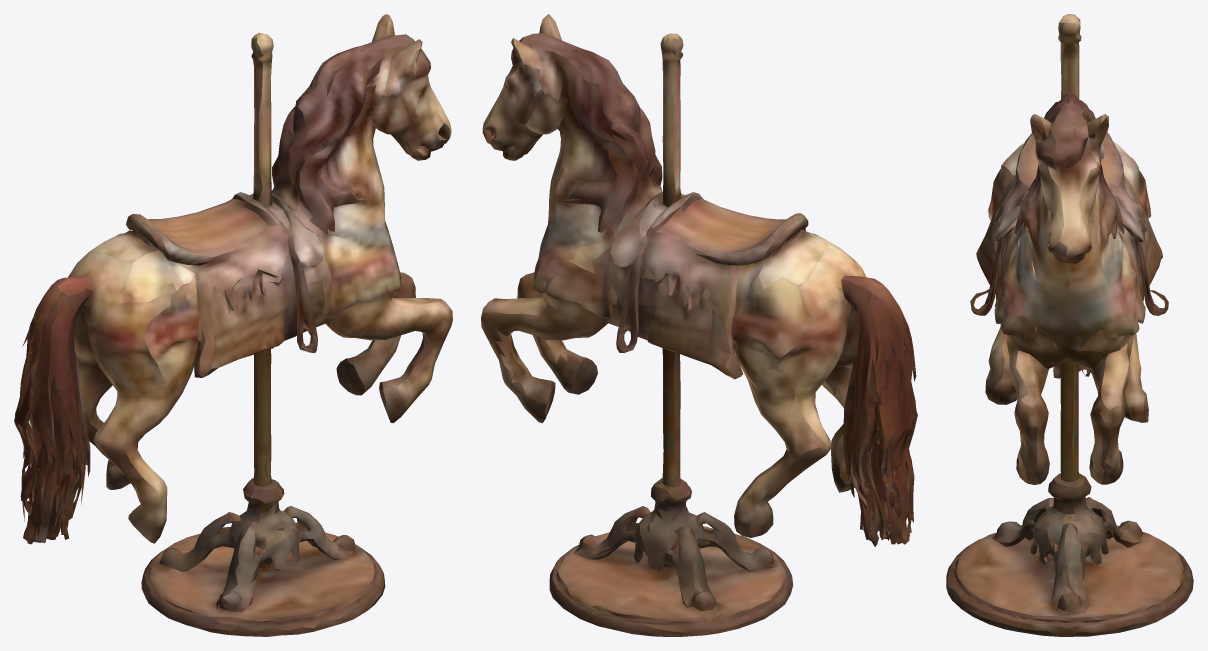
Rendered from horse.glb.
3 views of the same model, side by side, from view 1: azimuth 30°, elevation 25°; view 2: azimuth 150°, elevation 25°; view 3: azimuth 270°, elevation 25° (orthographic). The views are drawn at different scales.
Visible parts, largest first — view 1: geometry_0; view 2: geometry_0; view 3: geometry_0.
Boxes of the visible parts, x1,y1,x2,y2 form: geometry_0: (14,14,452,636); geometry_0: (481,14,917,636); geometry_0: (946,14,1193,636).
Bounding box in the file's own units: 0.8877 × 1.1 × 0.4335.
Materials: 1 (1 with a texture image).
